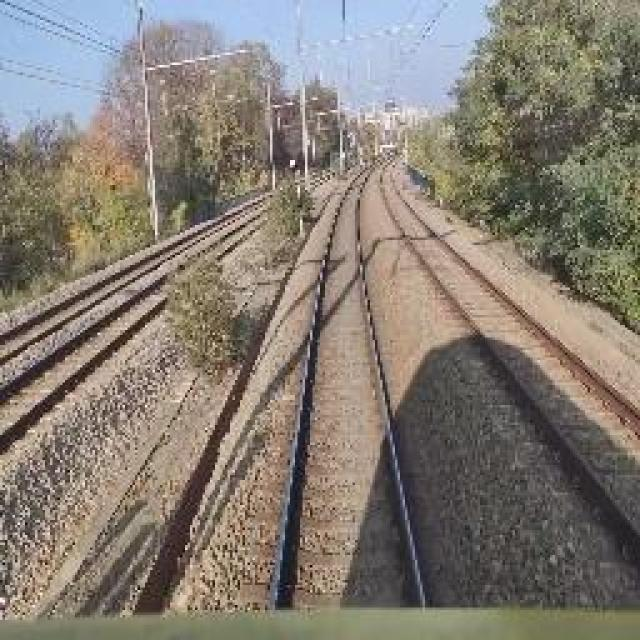rail: (241, 154, 448, 610)
